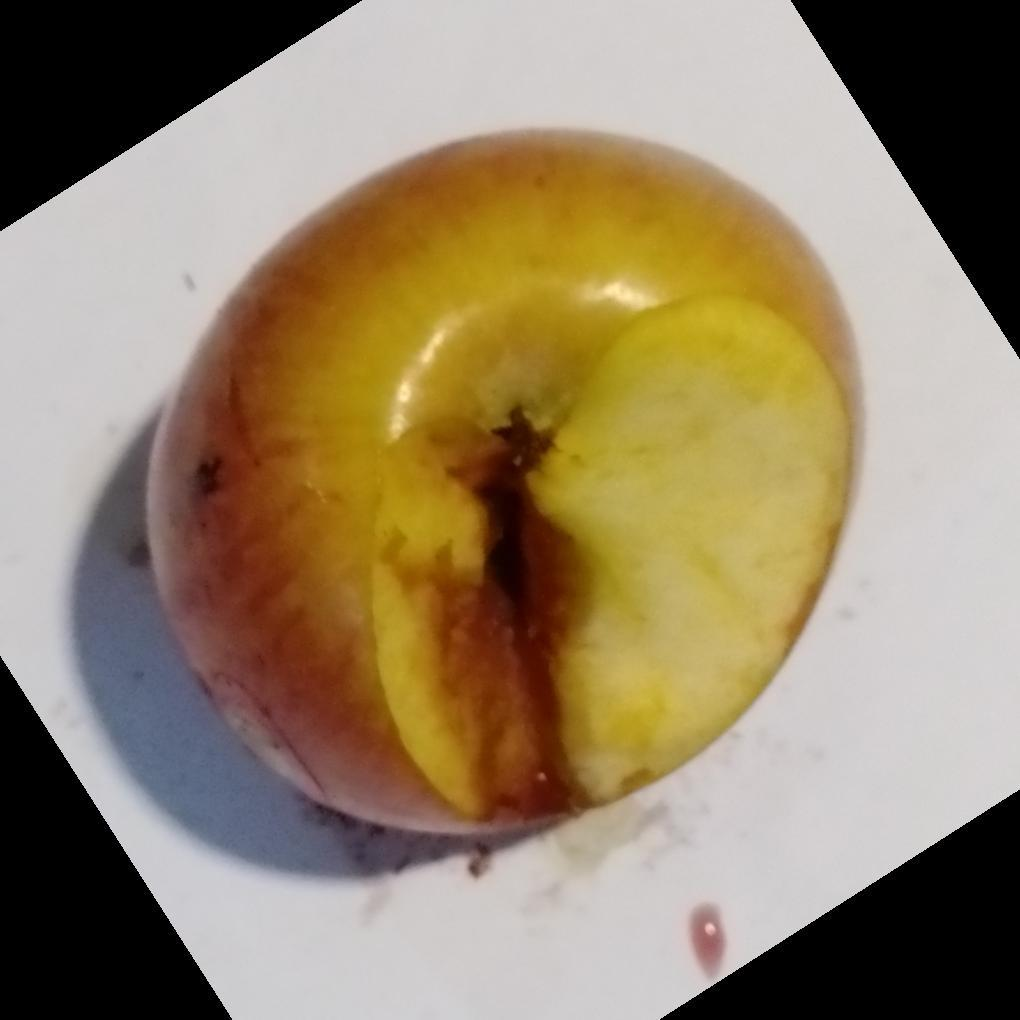FreshOrange: (142, 129, 862, 862)
